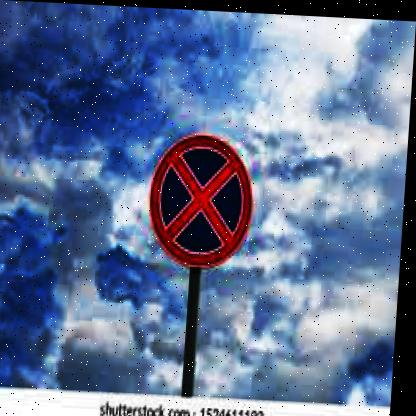No stopping: (150, 123, 265, 277)
